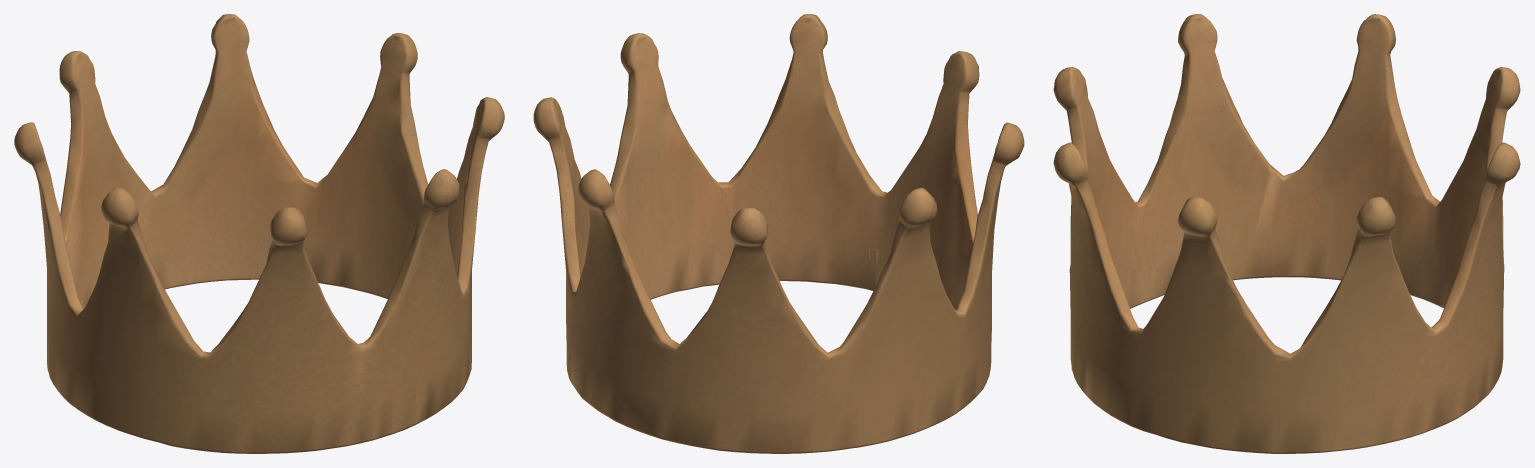
File: well_crown_v1.glb
3 views of the same model, side by side, from view 1: azimuth 30°, elevation 25°; view 2: azimuth 150°, elevation 25°; view 3: azimuth 270°, elevation 25° (orthographic).
Bounding box in the file's own units: 1.91 × 1.17 × 1.91.
1 material, 1 textured.
